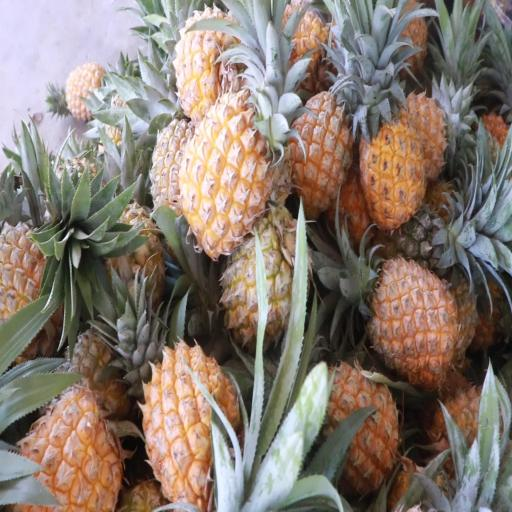------------------------------: (226, 220, 309, 350)
Pineapple - v8 v1: (146, 343, 239, 504), (13, 395, 124, 512), (186, 102, 272, 250), (317, 367, 399, 492), (368, 263, 456, 378), (285, 88, 354, 211), (361, 117, 427, 226), (176, 12, 242, 117)
